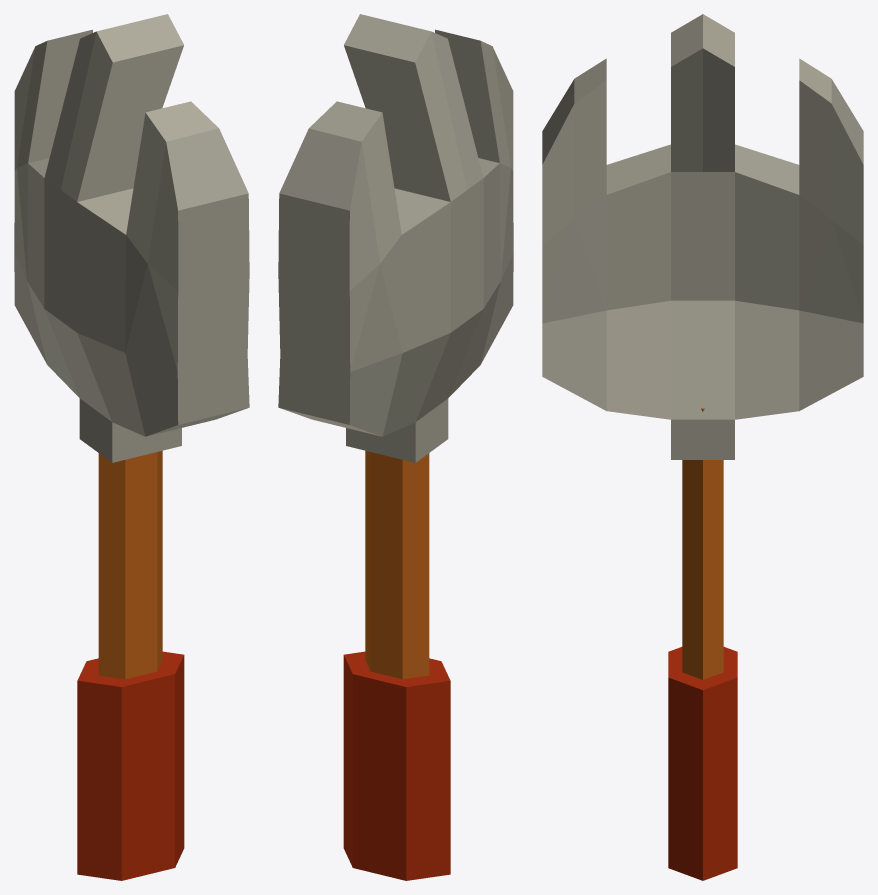
Rendered from hand_fork.fbx.
The picture shows the model from 3 angles, left to right: view 1: azimuth 30°, elevation 25°; view 2: azimuth 150°, elevation 25°; view 3: azimuth 270°, elevation 25°; orthographic projection.
Parts seen in each view (by area): view 1: hand fork; view 2: hand fork; view 3: hand fork.
Part boxes in pixels (box(x1,y1,x2,y2)): hand fork: box(14, 14, 249, 880); hand fork: box(278, 14, 513, 880); hand fork: box(542, 14, 863, 880).
Bounding box in the file's own units: 12.34 × 80.15 × 28.32.
